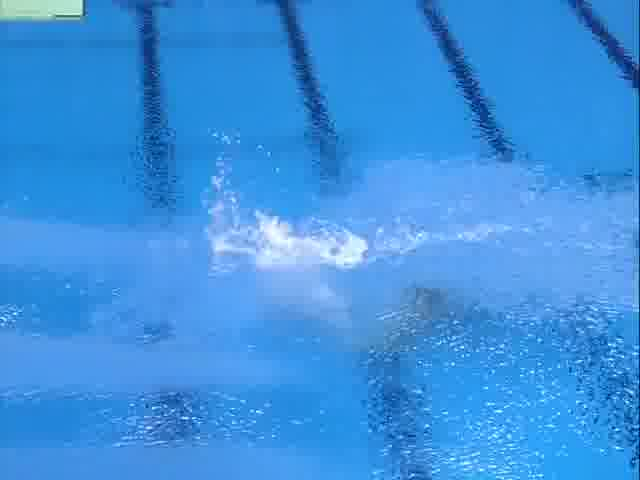core: (258, 218, 315, 261)
periphery: (195, 122, 541, 348)
